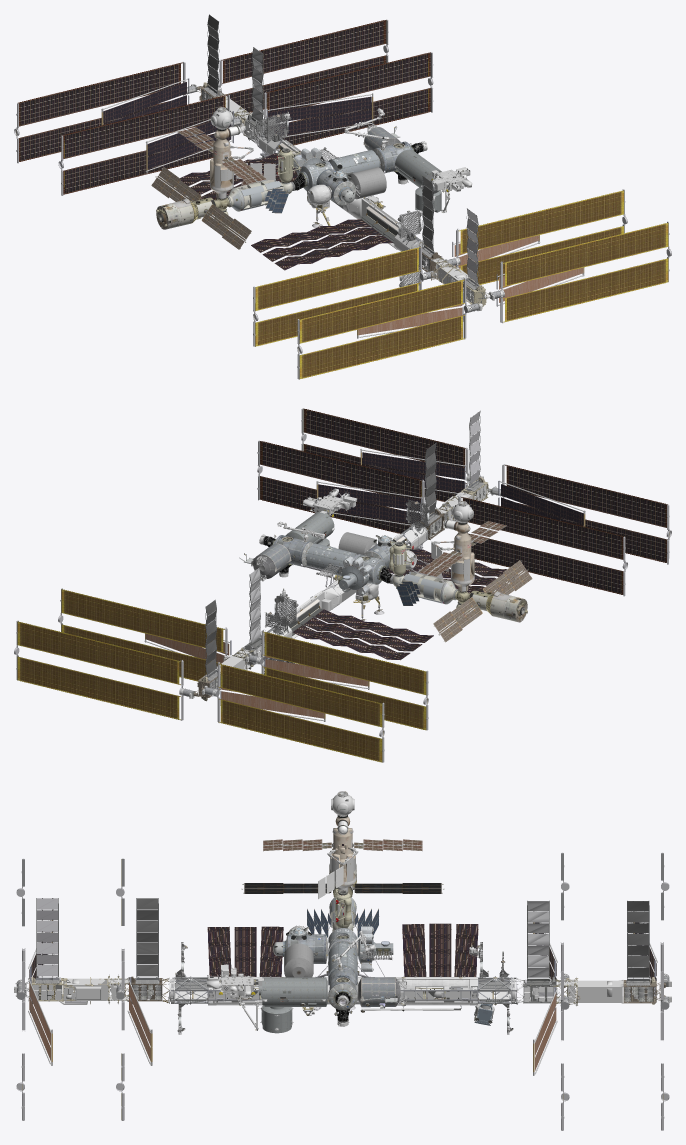
Rendered from iss.glb.
3 renders of one model, top to bottom at view 1: azimuth 30°, elevation 25°; view 2: azimuth 150°, elevation 25°; view 3: azimuth 270°, elevation 25°, orthographic. The views are drawn at different scales.
Parts seen in each view (by area): view 1: P6_4B_Array.001, P6_2B_Array.001, S4_Array_3A.001, P4_Array_2A.001, S4_Array_1A.001, JEM_WR_ROT.001, S6_1B_Array.001, P4_Array_4A.001, S6_3B_Array.001, Airlock.001, Zvezda_SM, Truss_P4 (+14 smaller); view 2: S6_1B_Array.001, S6_3B_Array.001, P4_Array_2A.001, S4_Array_3A.001, P4_Array_4A.001, JEM_WR_ROT.001, P6_4B_Array.001, S4_Array_1A.001, P6_2B_Array.001, Airlock.001, Zvezda_SM, Truss_P4 (+15 smaller); view 3: JEM_WR_ROT.001, Truss_P4, Airlock.001, Truss_S4.001, MLM.001, modello, JEM_PM.001, Zvezda_SM, Truss_S5.001, Zarya_FGB.001, Columbus.001, PMM.001 (+11 smaller).
Part boxes in pixels (x1,y1,x2,y2): P6_4B_Array.001: [297, 277, 481, 379]; P6_2B_Array.001: [489, 221, 671, 323]; S4_Array_3A.001: [58, 94, 241, 195]; P4_Array_2A.001: [253, 245, 437, 346]; S4_Array_1A.001: [262, 52, 433, 152]; JEM_WR_ROT.001: [166, 110, 448, 270]; S6_1B_Array.001: [14, 61, 197, 163]; P4_Array_4A.001: [445, 189, 627, 284]; S6_3B_Array.001: [218, 19, 388, 112]; Airlock.001: [254, 108, 469, 287]; Zvezda_SM: [151, 167, 251, 249]; Truss_P4: [412, 175, 490, 308]; S6_1B_Array.001: [202, 662, 384, 762]; S6_3B_Array.001: [14, 620, 194, 720]; P4_Array_2A.001: [449, 496, 627, 596]; S4_Array_3A.001: [246, 629, 428, 730]; P4_Array_4A.001: [257, 440, 438, 533]; JEM_WR_ROT.001: [264, 523, 519, 660]; P6_4B_Array.001: [490, 464, 671, 564]; S4_Array_1A.001: [58, 588, 229, 681]; P6_2B_Array.001: [301, 408, 483, 501]; Airlock.001: [239, 488, 429, 674]; Zvezda_SM: [433, 560, 532, 642]; Truss_P4: [412, 410, 490, 539]; JEM_WR_ROT.001: [170, 923, 514, 1015]; Truss_P4: [25, 898, 169, 1004]; Airlock.001: [170, 902, 515, 1034]; Truss_S4.001: [514, 900, 665, 1006]; MLM.001: [263, 815, 422, 898]; modello: [283, 928, 357, 1010]; JEM_PM.001: [255, 977, 327, 1006]; Zvezda_SM: [241, 864, 444, 897]; Truss_S5.001: [557, 979, 623, 1005]; Zarya_FGB.001: [307, 897, 379, 938]; Columbus.001: [356, 977, 400, 1007]; PMM.001: [284, 943, 313, 977].
Bounding box in the file's own units: 73.3 × 28.99 × 99.22.
Materials: 31 (29 with a texture image).
